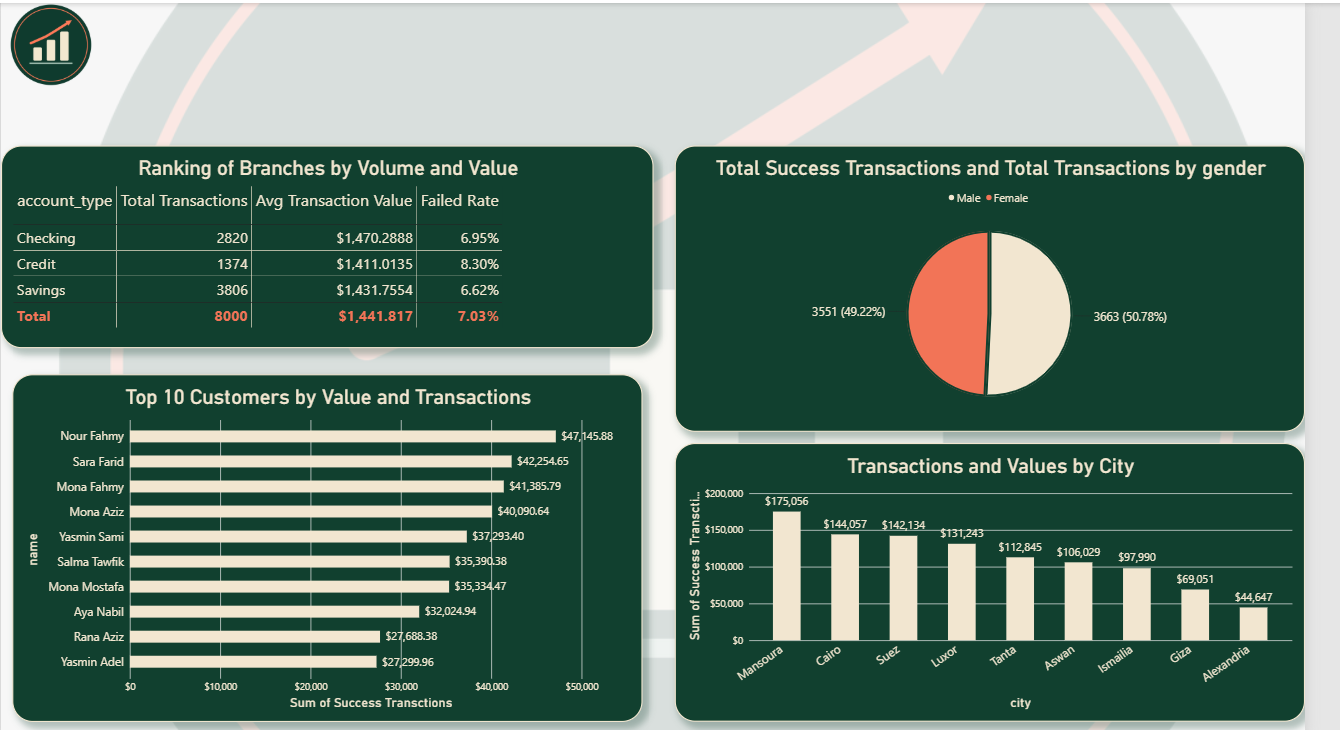

The page's visual inventory and layout, read from the dashboard file:
{"tool":"powerbi","page":{"name":"Customers","canvas":[1920,1080],"ordinal":4},"visuals":[{"type":"image","box":[0,0,147.2,123.3],"z":0},{"type":"pieChart","fields":{"Category":["dim_customer.gender"],"Y":["\"Measures\".Total Success Transactions"]},"box":[992,209.8,927.6,421.5],"z":1000},{"type":"clusteredColumnChart","title":"Transactions and Values by City","fields":{"Category":["dim_customer.city"],"Y":["\"Measures\".Sum of Success Transctions"]},"box":[992,647.9,927.6,410.4],"z":2000},{"type":"tableEx","title":"Ranking of Branches by Volume and Value","fields":{"Values":["dim_customer.account_type","\"Measures\".Total Transactions","\"Measures\".Avg Transaction Value","\"Measures\".Failed Rate"]},"box":[0,209.8,960.7,298.2],"z":3000},{"type":"clusteredBarChart","title":"Top 10 Customers by Value and Transactions","fields":{"Category":["dim_customer.name"],"Y":["\"Measures\".Sum of Success Transctions"]},"box":[16.6,546.6,927.6,511.7],"z":4000}]}

Visuals, with their boxes on the page's 1920x1080 design canvas (x1, y1, x2, y2). These are canvas units, not pixel positions in the 1340x730 screenshot, which may show the page scaled, cropped or inside an application window:
image: bbox(0, 0, 147, 123)
pieChart - dim_customer.gender x "Measures".Total Success Transactions: bbox(992, 210, 1920, 631)
"Transactions and Values by City" clusteredColumnChart: bbox(992, 648, 1920, 1058)
"Ranking of Branches by Volume and Value" tableEx: bbox(0, 210, 961, 508)
"Top 10 Customers by Value and Transactions" clusteredBarChart: bbox(17, 547, 944, 1058)
